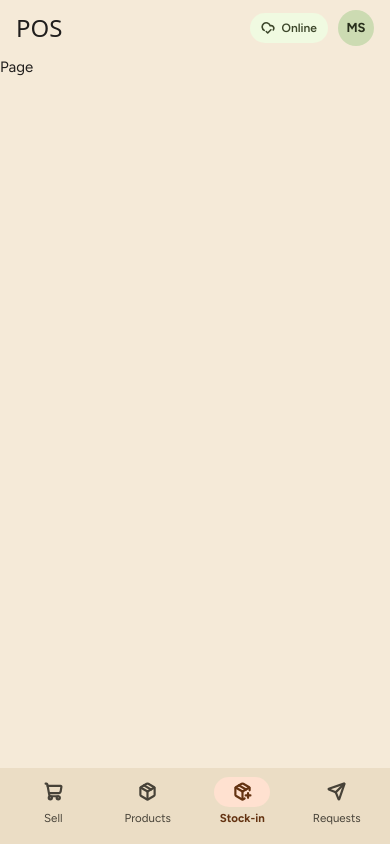
Scenario: phone account menu › shows the role under the name
Click the button with aria-label "Account" at (356, 28), box [334,6,378,50]
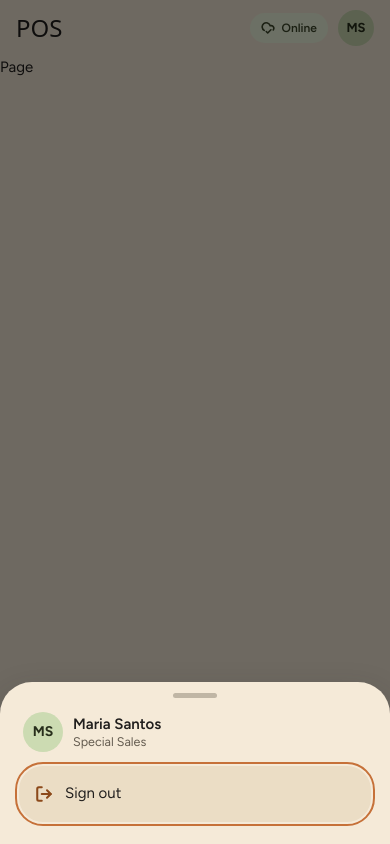
Expected: the text "Special Sales" is shown, [73,734,146,749]
